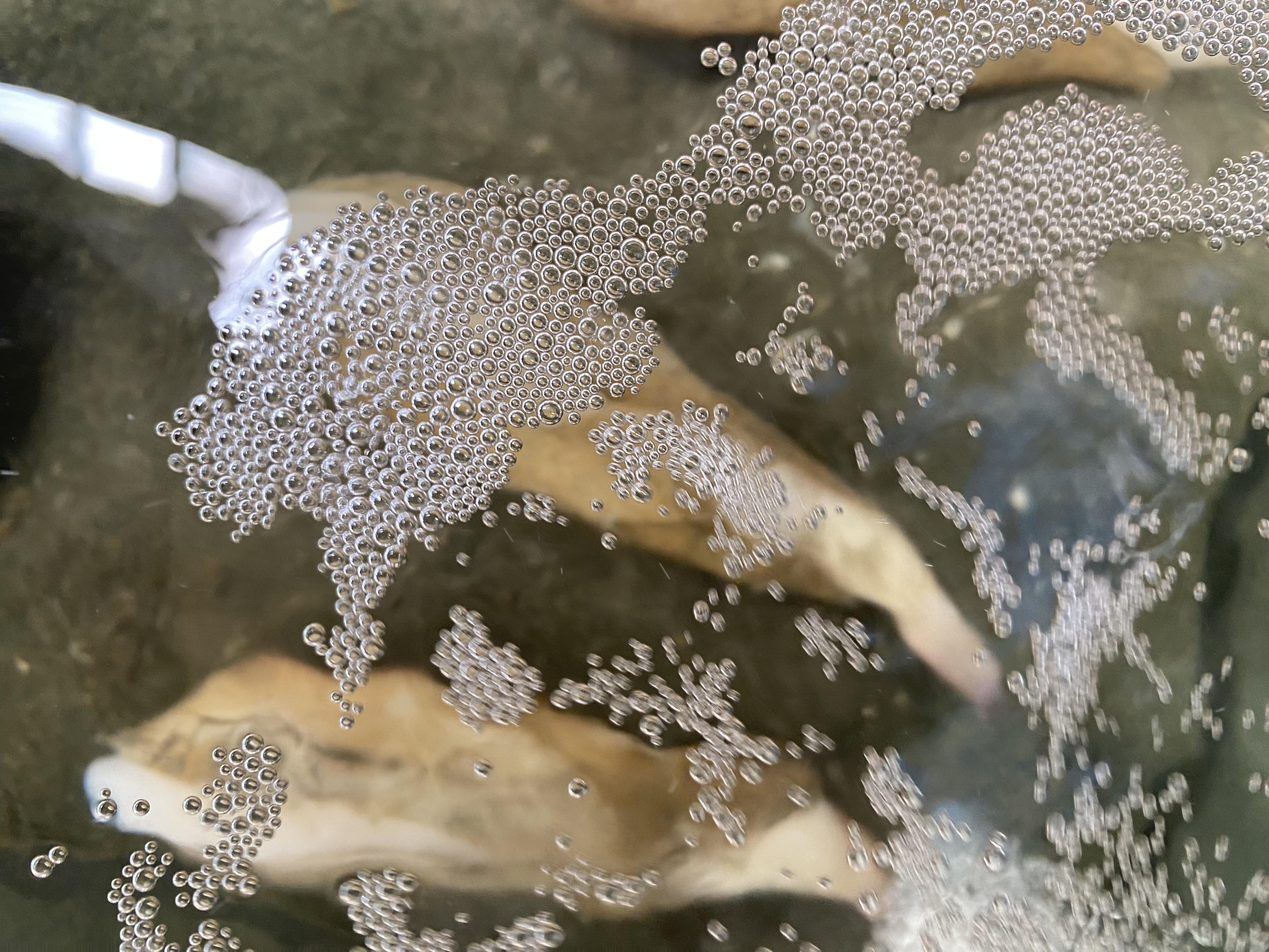Healthy: (88, 655, 884, 904), (617, 345, 1001, 705), (511, 425, 717, 568)
